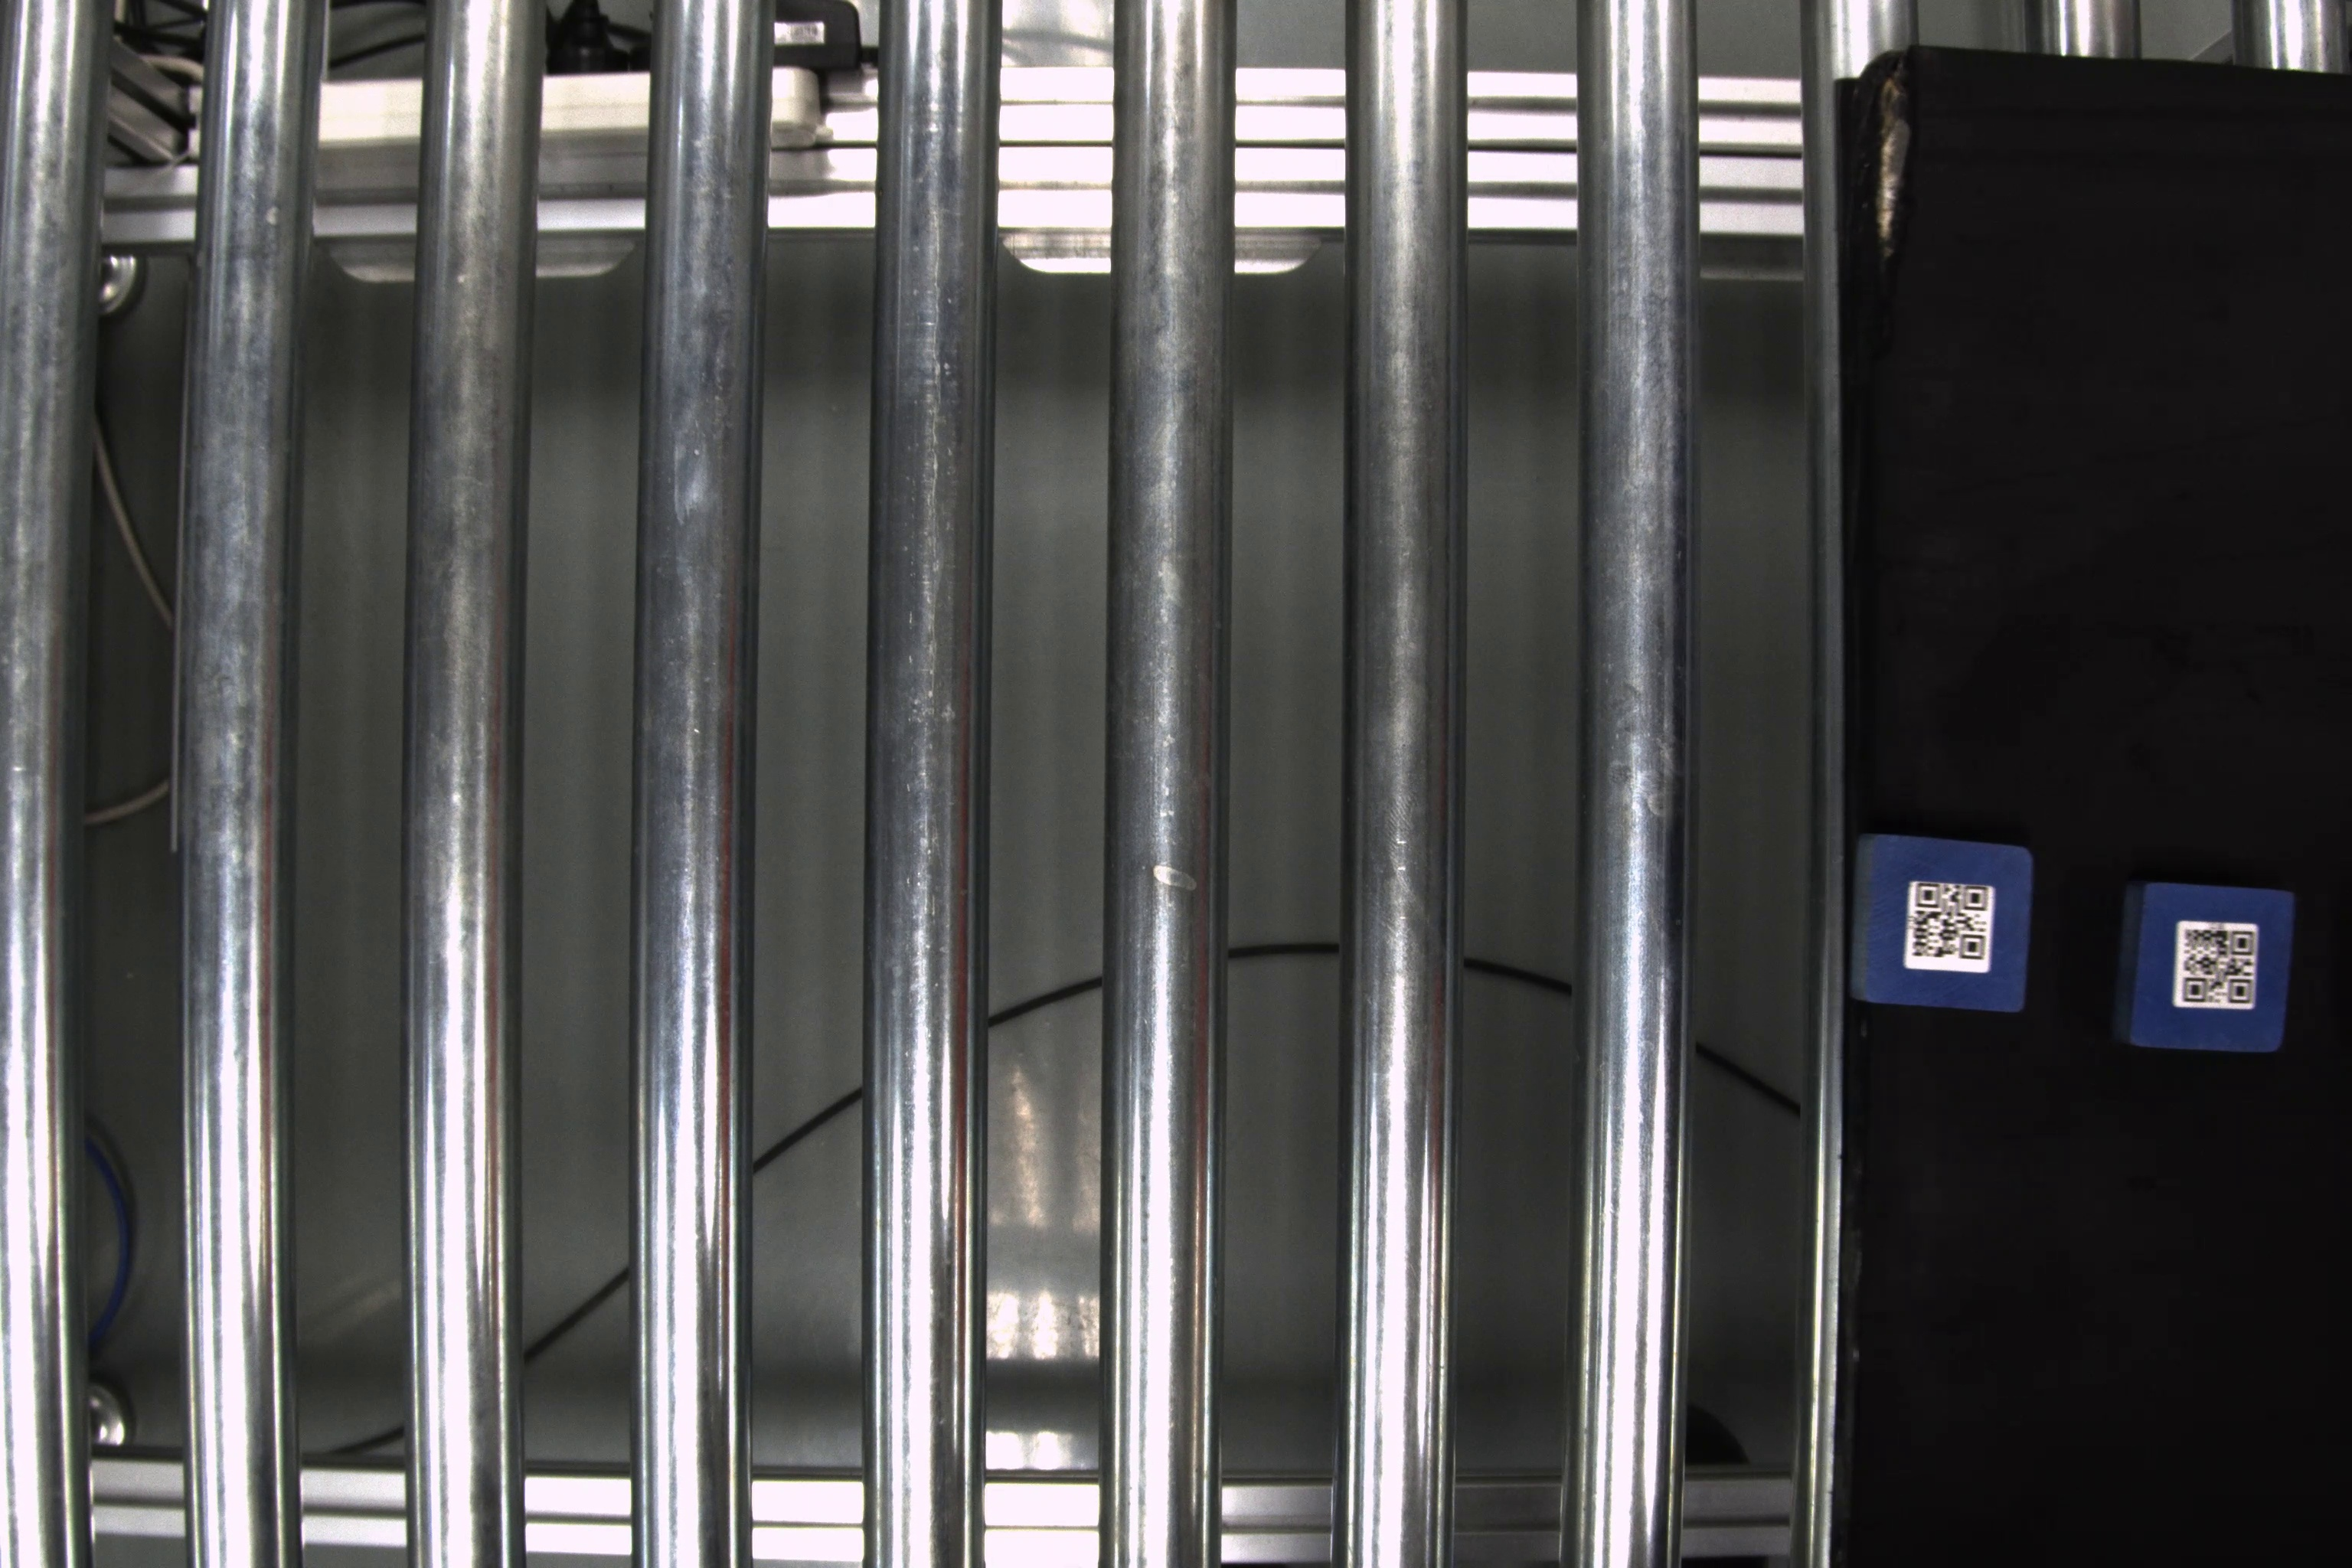wood: (1848, 826, 2042, 1018), (2116, 877, 2310, 1053)
